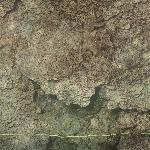dead: (1, 1, 148, 146)
